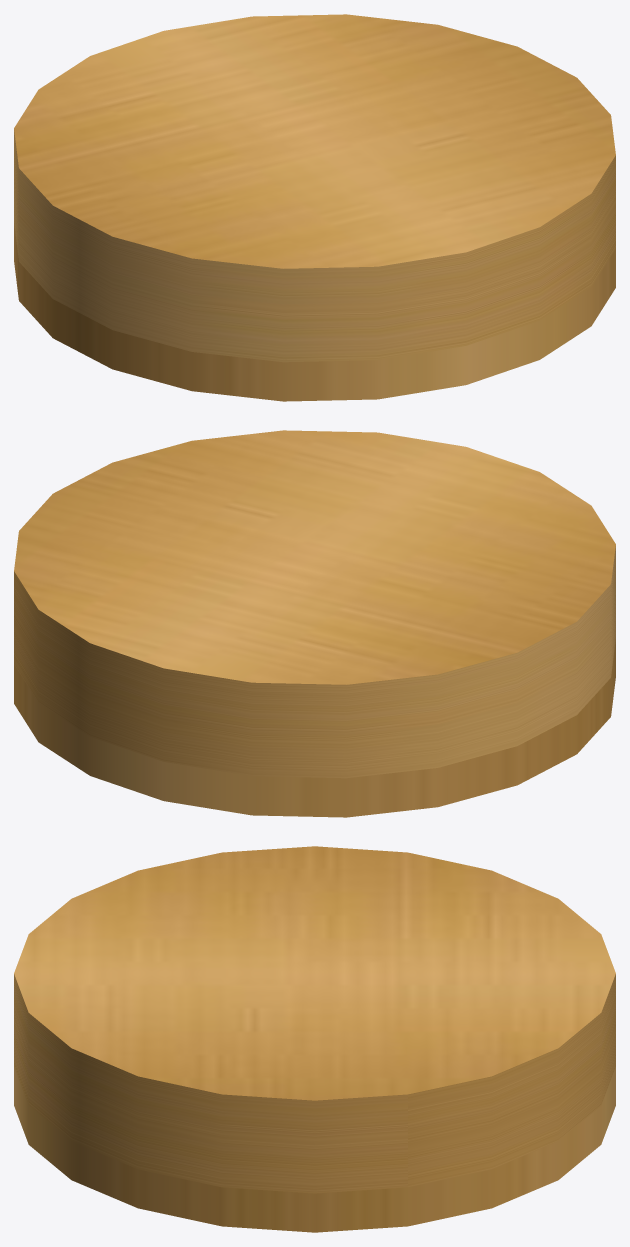
File: FbxJarCap.fbx
The picture shows the model from 3 angles, top to bottom: view 1: azimuth 30°, elevation 25°; view 2: azimuth 150°, elevation 25°; view 3: azimuth 270°, elevation 25°; orthographic projection.
Visible parts, largest first — view 1: JarCap; view 2: JarCap; view 3: JarCap.
Boxes of the visible parts, x1,y1,x2,y2 form: JarCap: (14,14,615,401); JarCap: (14,430,615,817); JarCap: (14,846,615,1232).
Size of the model in its own units: 0.27 by 0.0653 by 0.27.
